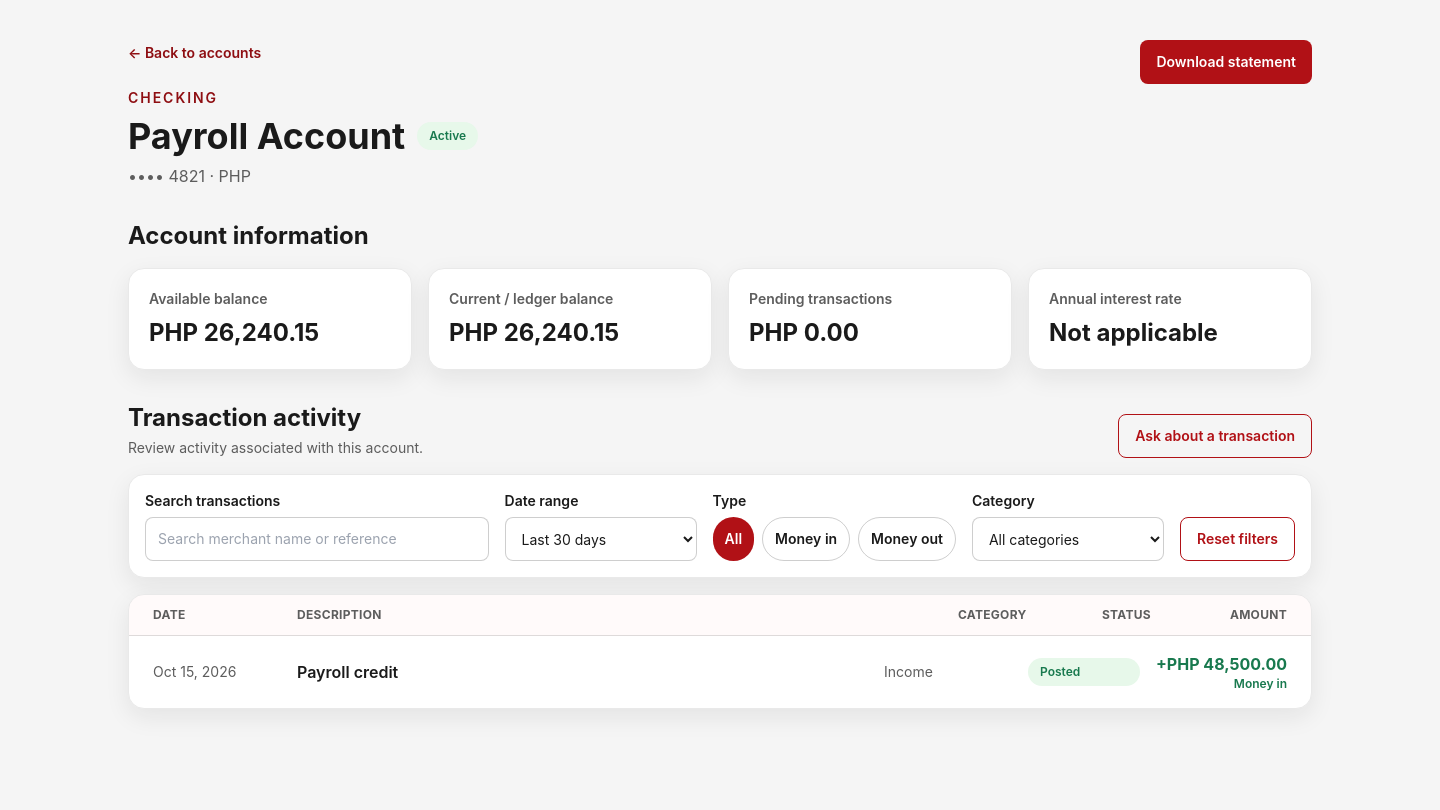
Test case: AccountDetailPage › downloads a masked statement locally without exposing the full account number
Check: the heading "Payroll Account" is shown, box [128, 116, 405, 156]
Click the button "Download statement" at (1226, 62), box [1140, 40, 1312, 84]
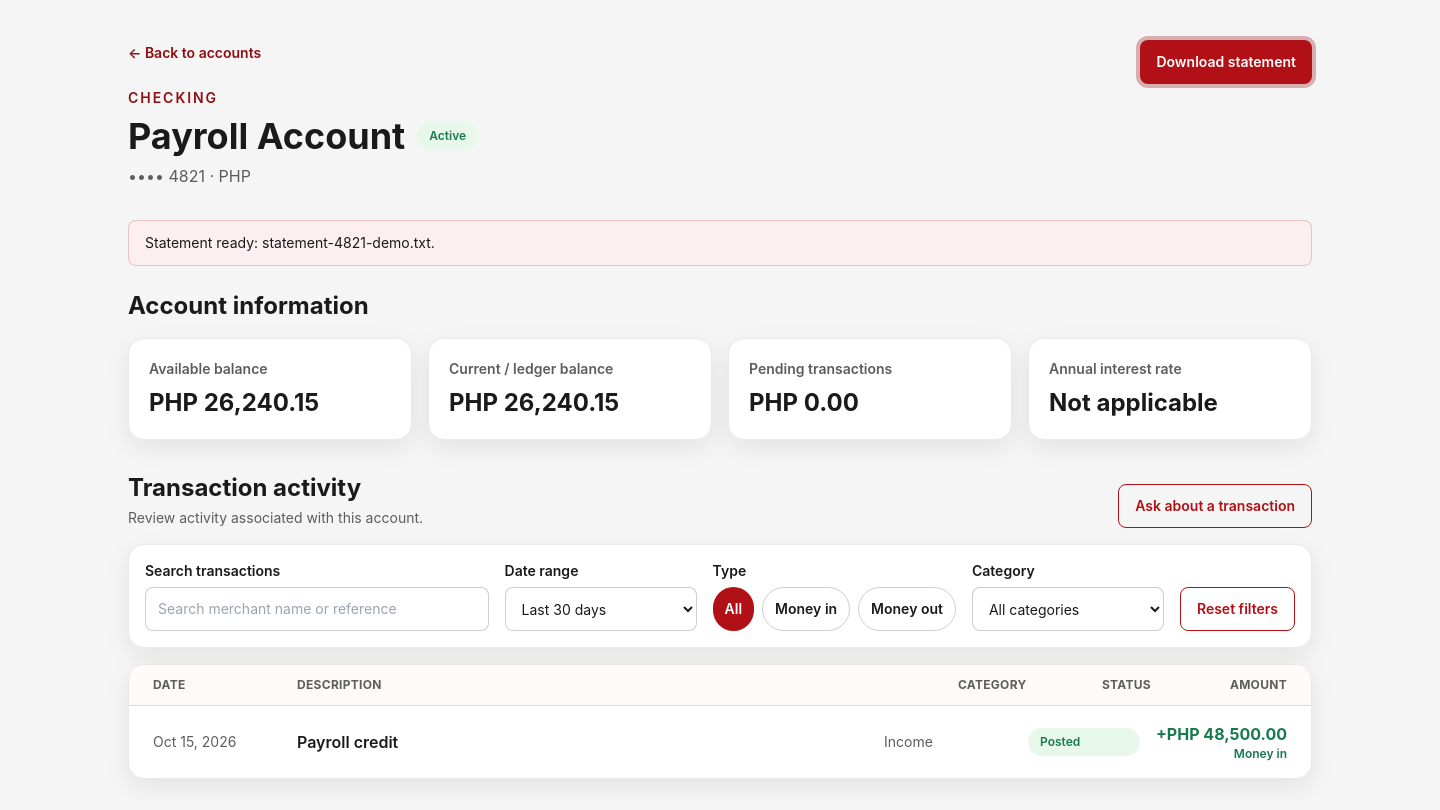
Check: the text "Statement ready: statement-4821-demo.txt." is shown, box [128, 220, 1312, 266]
